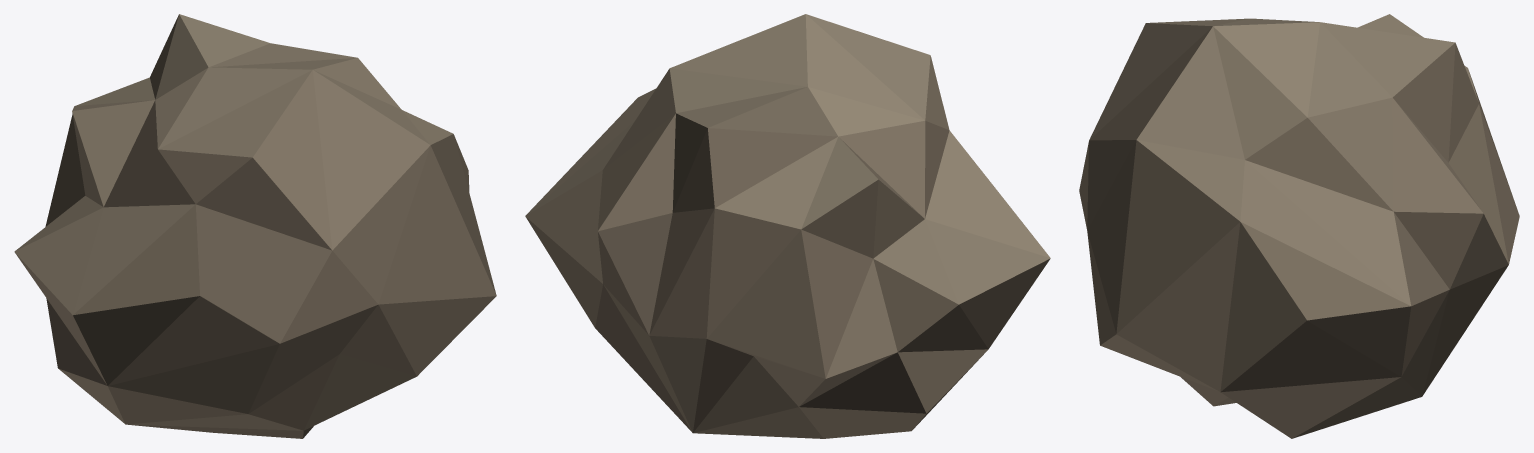
File: BoulderA.glb
The picture shows the model from 3 angles, left to right: view 1: azimuth 30°, elevation 25°; view 2: azimuth 150°, elevation 25°; view 3: azimuth 270°, elevation 25°; orthographic projection. The views are drawn at different scales.
Parts seen in each view (by area): view 1: BoulderA.001; view 2: BoulderA.001; view 3: BoulderA.001.
Boxes of the visible parts, x1,y1,x2,y2 form: BoulderA.001: [14, 14, 496, 438]; BoulderA.001: [525, 14, 1050, 438]; BoulderA.001: [1079, 14, 1519, 438].
Size of the model in its own units: 2.09 by 1.7 by 1.71.
